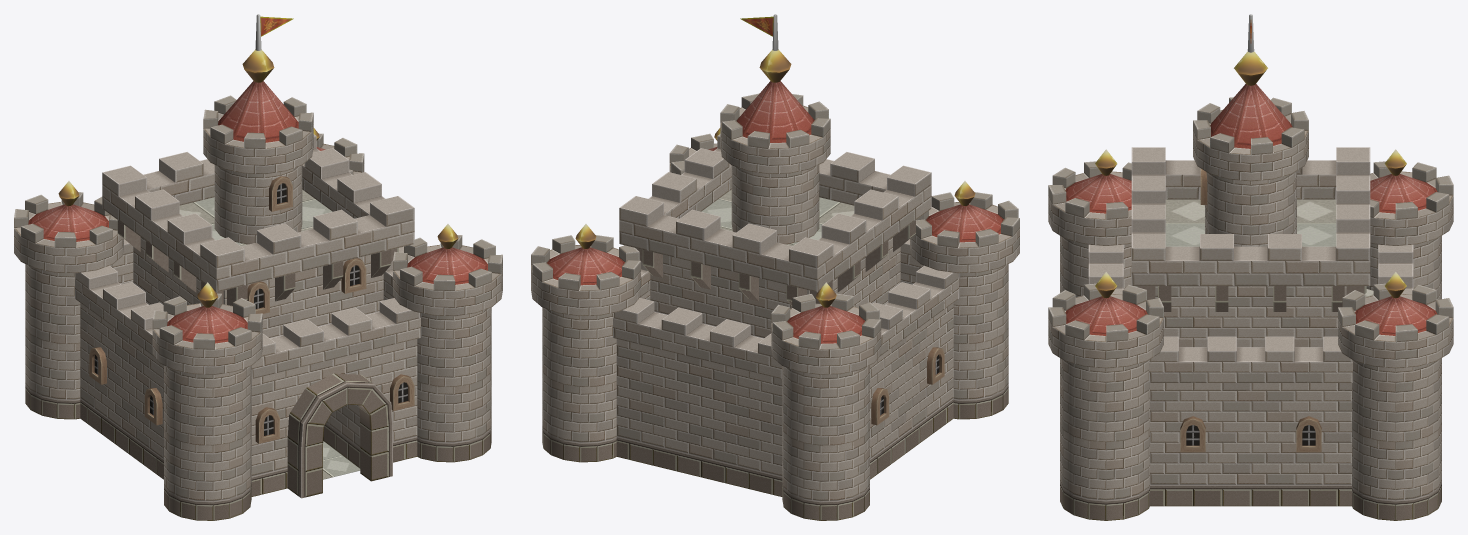
The model's file is Castle S.fbx.
3 renders of one model, left to right at view 1: azimuth 30°, elevation 25°; view 2: azimuth 150°, elevation 25°; view 3: azimuth 270°, elevation 25°, orthographic. The views are drawn at different scales.
Visible parts, largest first — view 1: castle; view 2: castle; view 3: castle.
Boxes of the visible parts, <box> form: castle: <box>14,14,502,520</box>; castle: <box>531,14,1019,520</box>; castle: <box>1048,14,1453,520</box>.
Bounding box in the file's own units: 7 × 8.12 × 7.
